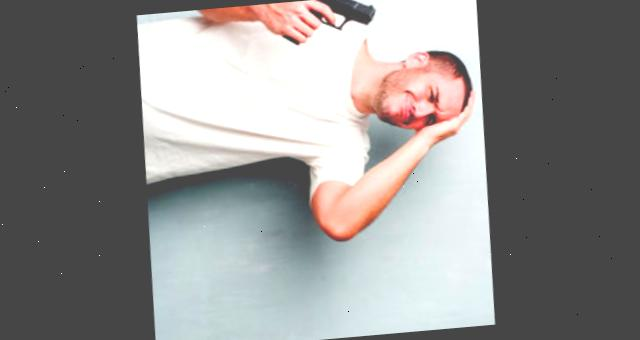pistol: (281, 0, 393, 50), (263, 0, 373, 44)
